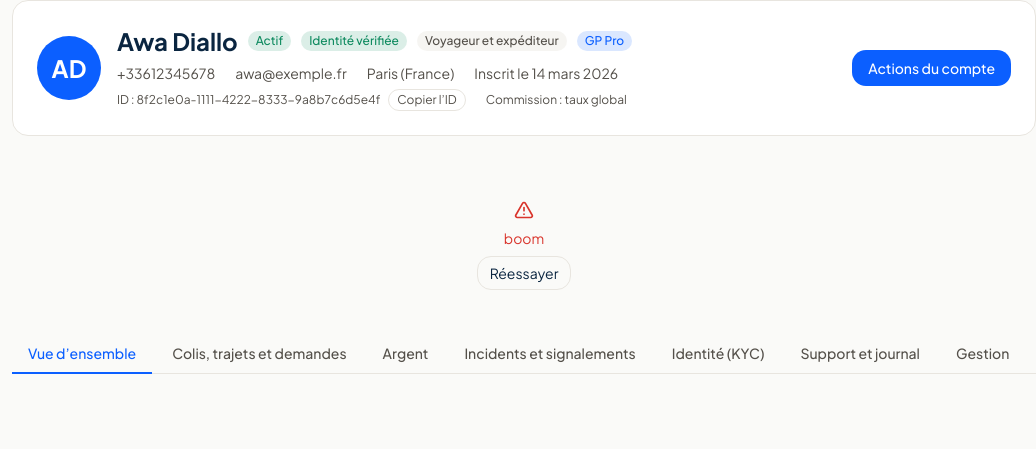
users/[id].vue › synthèse 500 : erreur Réessayer, en-tête conservé, pas de redirection
The width and height of the screenshot is (1036, 449).
Expected: the heading "Awa Diallo" is shown, [117,25,238,57]
Expected: the message "boom Réessayer" is shown, [477,200,571,290]
Click the button with test id "state-retry". click: click(524, 273)
box: [477,256,571,290]
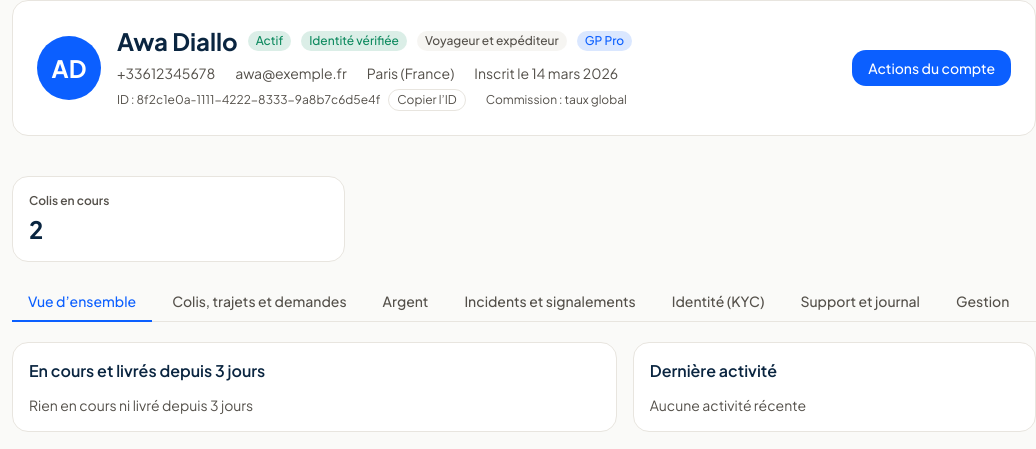
Result: the element with test id "kpi-parcels" is shown at [12,176,345,262]
